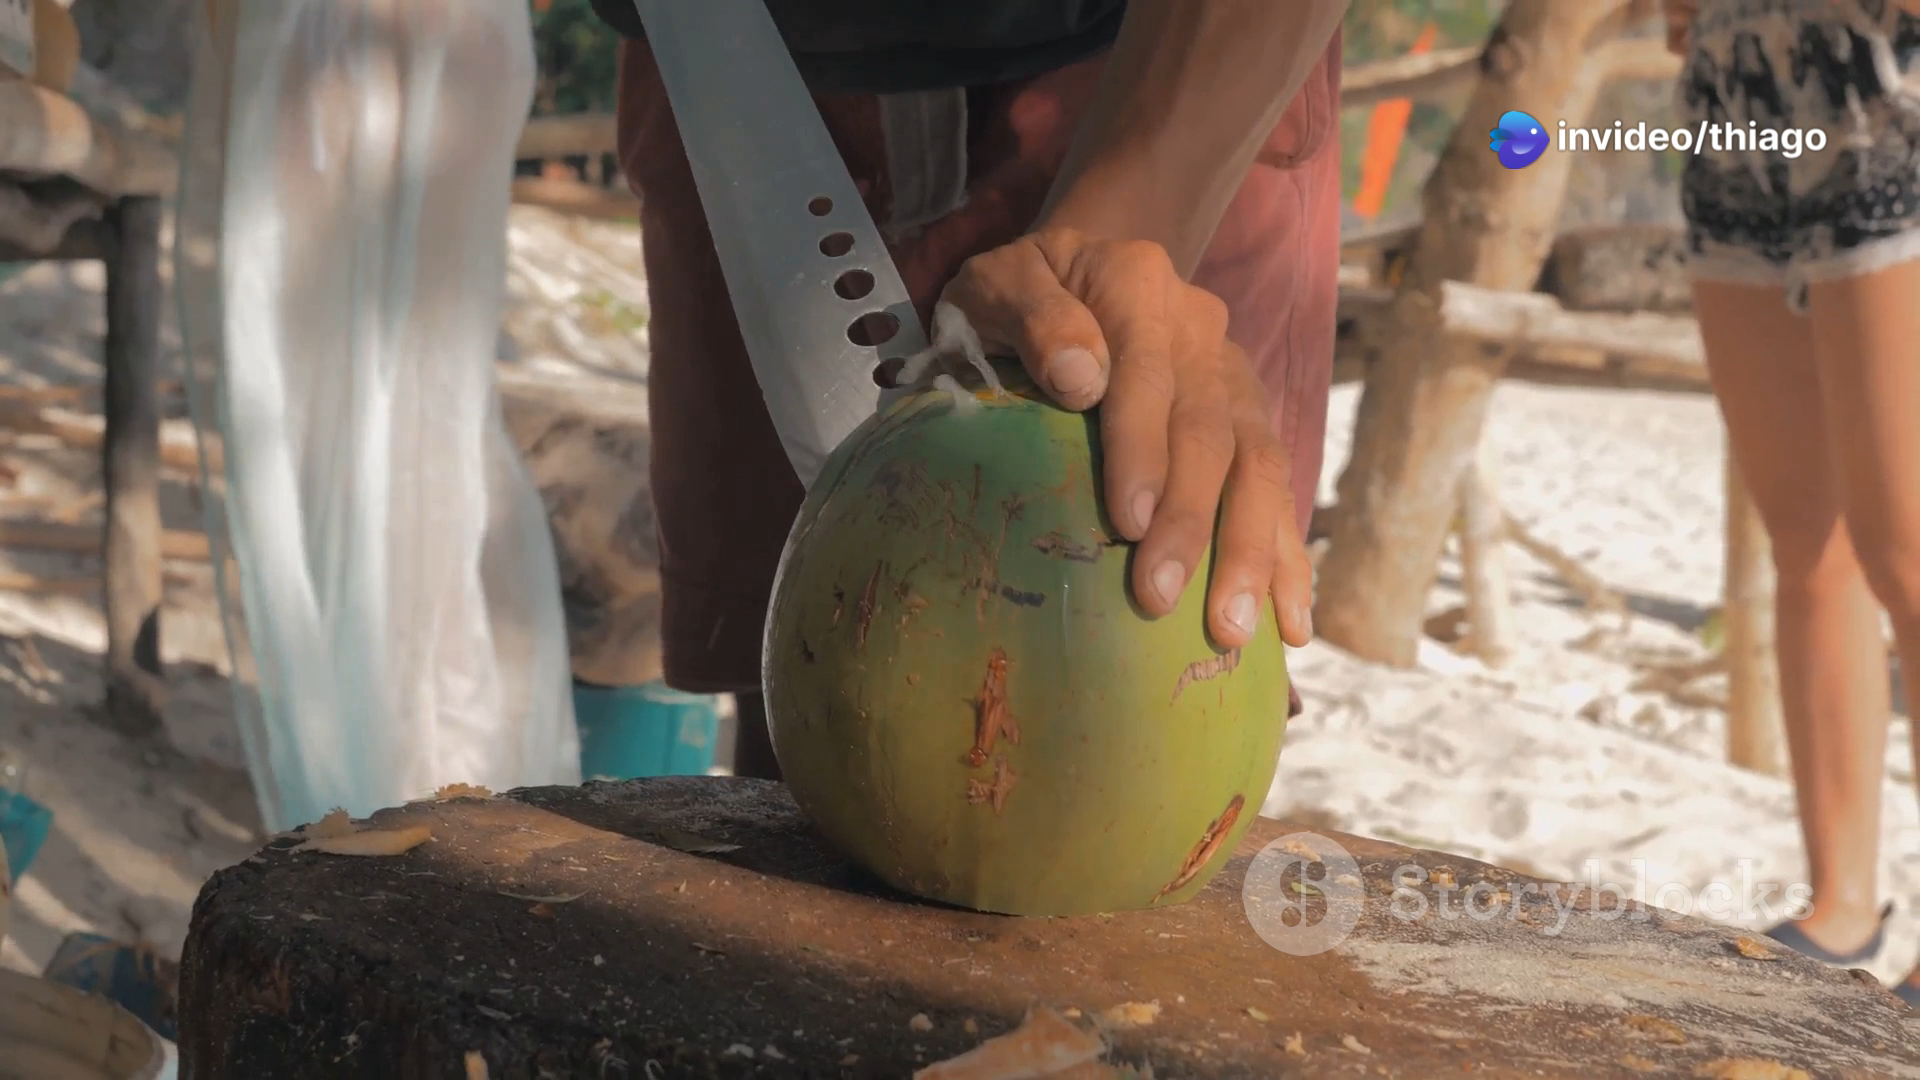cortante: (637, 0, 957, 497)
